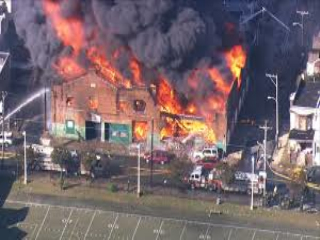fire: (154, 61, 248, 146), (43, 6, 123, 97)
smoke: (115, 2, 292, 69)
